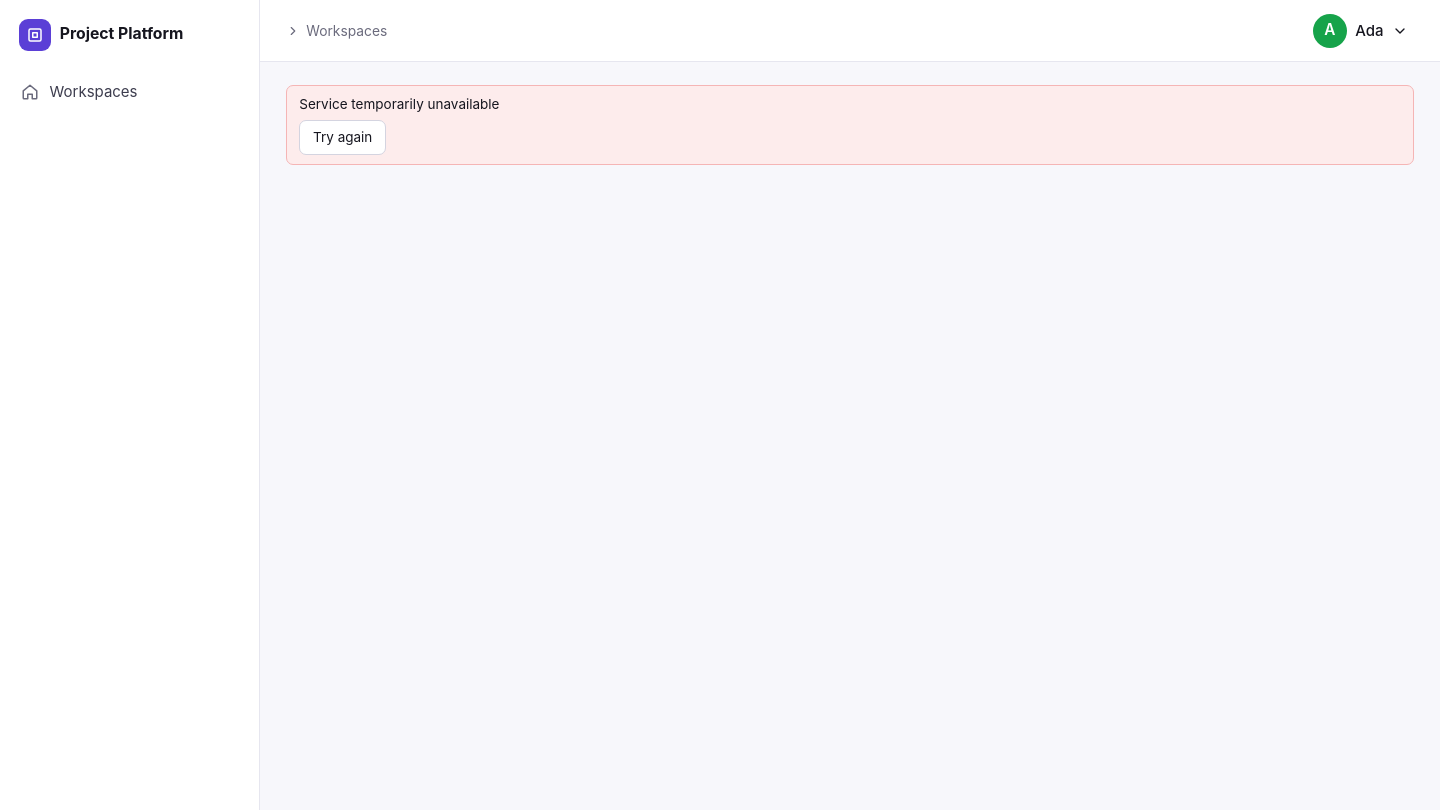
Test case: board › shows a temporary-unavailability state with retry on 503
Expected: the message shows "temporarily unavailable", [299,96,500,112]
Step 1. Click the button "Try again" → (343, 138), box [299,120,386,155]
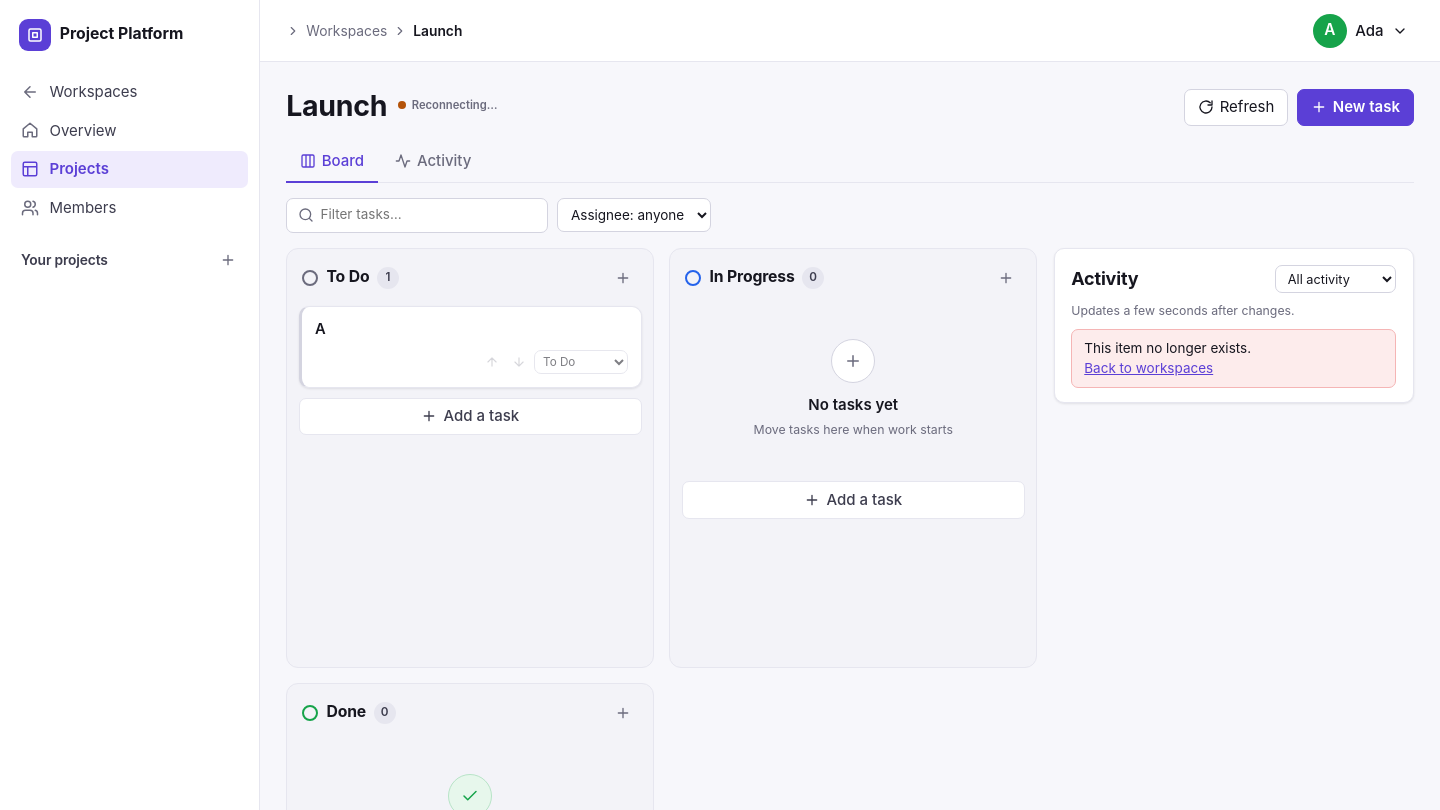
Now the heading "Launch" is shown, box [286,84,387,126]
